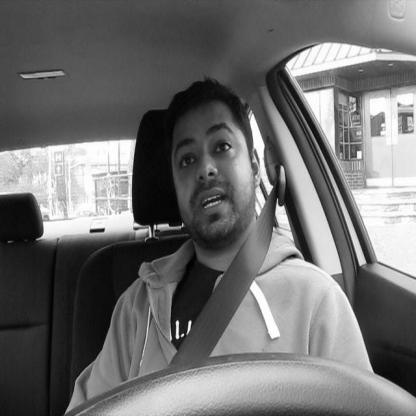seatbelt: (156, 78, 272, 363)
